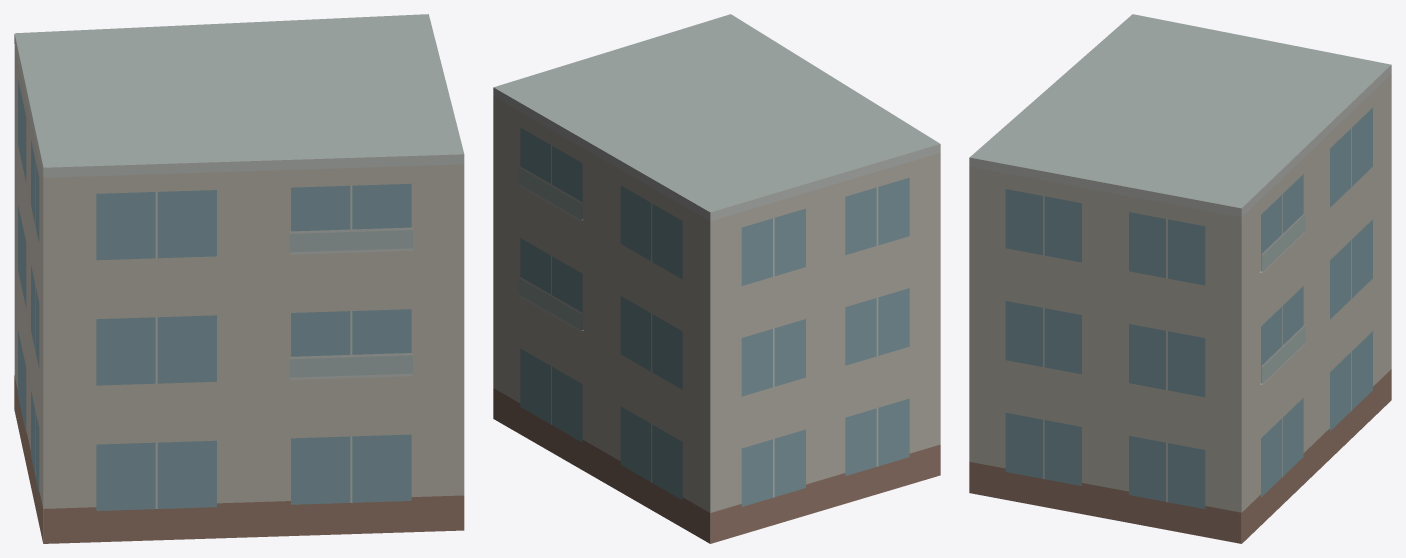
The model's file is survey-upis-32615648.glb.
The picture shows the model from 3 angles, left to right: view 1: azimuth 30°, elevation 25°; view 2: azimuth 150°, elevation 25°; view 3: azimuth 270°, elevation 25°; orthographic projection. The views are drawn at different scales.
Parts seen in each view (by area): view 1: survey-upis-32615648.tmp; view 2: survey-upis-32615648.tmp; view 3: survey-upis-32615648.tmp.
Boxes of the visible parts, x1,y1,x2,y2 form: survey-upis-32615648.tmp: (14,14,464,543); survey-upis-32615648.tmp: (493,14,940,543); survey-upis-32615648.tmp: (969,14,1391,543).
Size of the model in its own units: 11.38 by 9.15 by 10.44.
